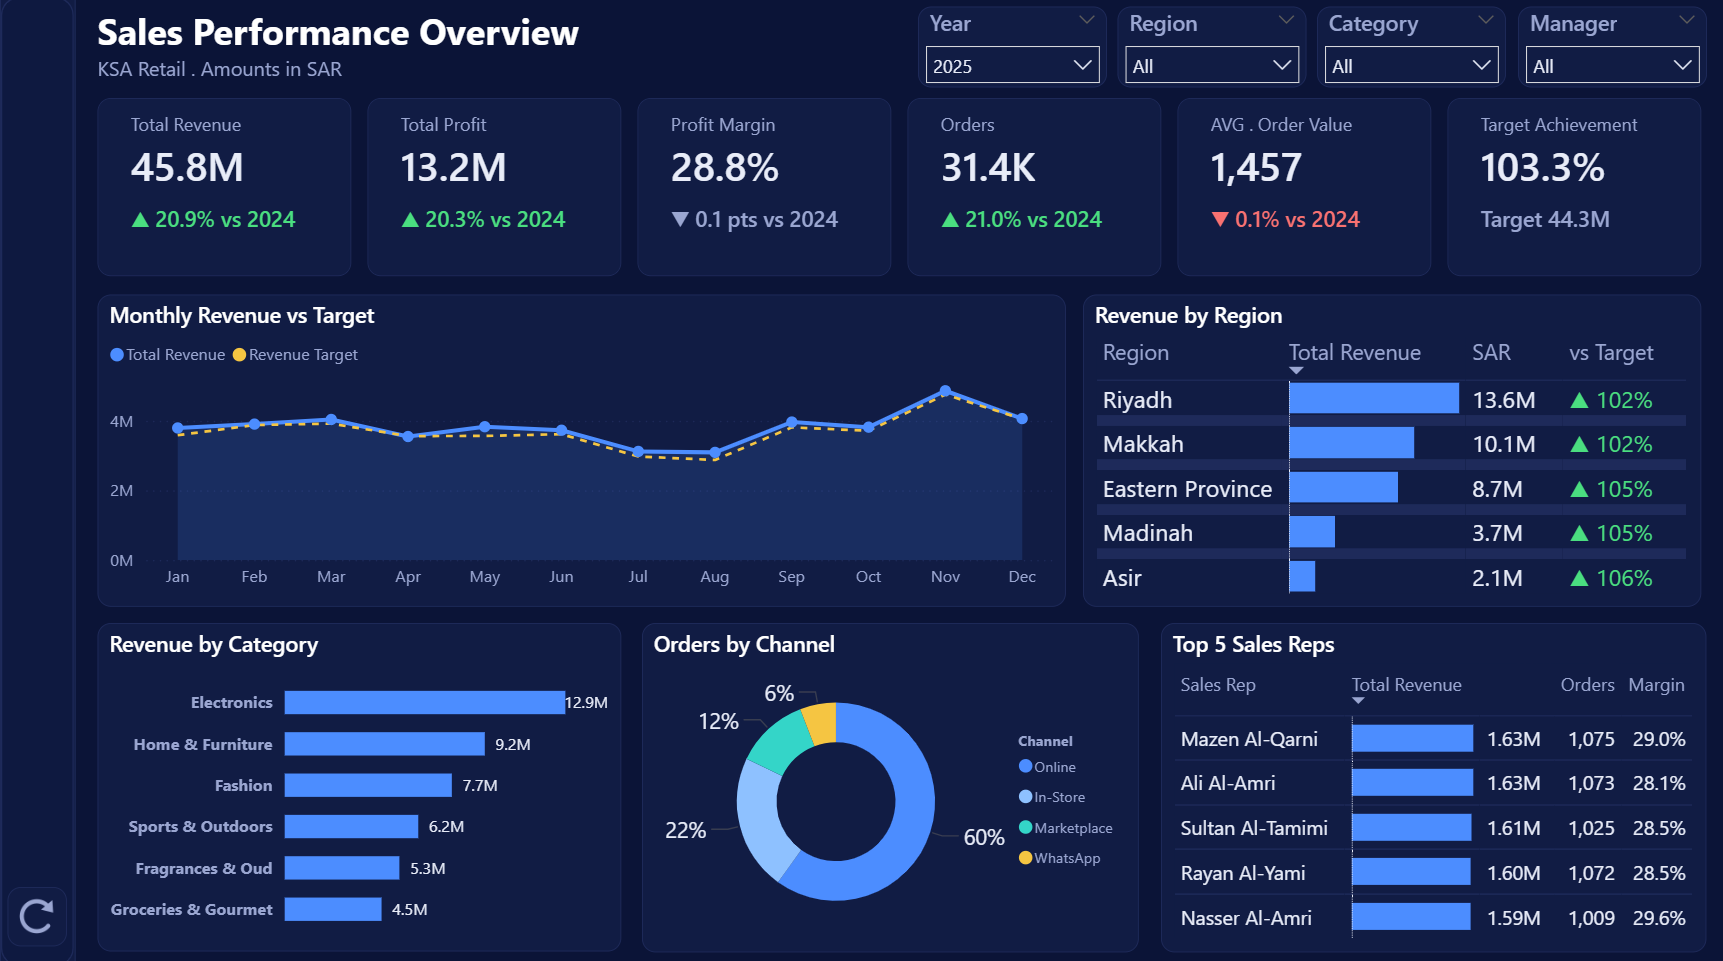

The dashboard page shown, as its layout file describes it:
{"tool":"powerbi","page":{"name":"Page 1","canvas":[1280,720],"ordinal":0},"visuals":[{"type":"cardVisual","fields":{"Data":["Fact_Sales.Profit Label"]},"box":[272,76,188,132],"z":0},{"type":"cardVisual","fields":{"Data":["Fact_Sales.Profit Margin %"]},"box":[472,76,188,132],"z":1000},{"type":"cardVisual","fields":{"Data":["Fact_Sales.Orders Label"]},"box":[672,76,188,132],"z":2000},{"type":"cardVisual","fields":{"Data":["Fact_Sales.AOV Label"]},"box":[872,76,188,132],"z":3000},{"type":"cardVisual","fields":{"Data":["Fact_Sales.Achievement %"]},"box":[1072,76,188,132],"z":4000},{"type":"cardVisual","fields":{"Data":["Fact_Sales.Revenue Label"]},"box":[72,76,188,132],"z":5000},{"type":"slicer","fields":{"Values":["Dim_Date.Year"]},"box":[680,8,140,60],"z":6000},{"type":"slicer","fields":{"Values":["Dim_Geography.Region"]},"box":[828,8,140,60],"z":7000},{"type":"slicer","fields":{"Values":["Dim_Product.Category"]},"box":[976,8,140,60],"z":8000},{"type":"slicer","fields":{"Values":["Dim_SalesRep.ManagerName"]},"box":[1124,8,140,60],"z":9000},{"type":"textbox","box":[72,8,520,68],"z":10000},{"type":"lineChart","title":"Monthly Revenue vs Target","fields":{"Category":["Dim_Date.MonthName"],"Y":["Fact_Sales.Total Revenue","Fact_Sales.Revenue Target"]},"box":[72,221,717,231],"z":11000},{"type":"tableEx","title":"Revenue by Region","fields":{"Values":["Dim_Geography.Province","Fact_Sales.Total Revenue","Fact_Sales.Revenue Label","Fact_Sales.Achievement Label"]},"box":[802.2,221.1,457.8,231.1],"z":12000},{"type":"tableEx","title":"Top 5 Sales Reps","fields":{"Values":["Dim_SalesRep.SalesRepName","Fact_Sales.Total Revenue","Fact_Sales.Rep Revenue Label","Fact_Sales.Orders","Fact_Sales.Profit Margin %"]},"box":[860,464,404,244],"z":13000},{"type":"clusteredBarChart","title":"Revenue by Category","fields":{"Category":["Dim_Product.Category"],"Y":["Fact_Sales.Total Revenue"]},"box":[72.2,464.4,387.8,243.3],"z":14000},{"type":"donutChart","fields":{"Category":["Fact_Sales.Channel"],"Y":["Fact_Sales.Orders"]},"box":[476,464,368,244],"z":15000},{"type":"shape","box":[0,0,56,720],"z":16000},{"type":"image","box":[6,660,44,44],"z":17000}]}

Visuals, with their boxes in screenshot pixels (x1, y1, x2, y2), scaled from the page's 1280x720 canvas onto the 1723x961 screenshot:
cardVisual - Fact_Sales.Profit Label: [left=366, top=101, right=619, bottom=278]
cardVisual - Fact_Sales.Profit Margin %: [left=635, top=101, right=888, bottom=278]
cardVisual - Fact_Sales.Orders Label: [left=905, top=101, right=1158, bottom=278]
cardVisual - Fact_Sales.AOV Label: [left=1174, top=101, right=1427, bottom=278]
cardVisual - Fact_Sales.Achievement %: [left=1443, top=101, right=1696, bottom=278]
cardVisual - Fact_Sales.Revenue Label: [left=97, top=101, right=350, bottom=278]
slicer - Dim_Date.Year: [left=915, top=11, right=1104, bottom=91]
slicer - Dim_Geography.Region: [left=1115, top=11, right=1303, bottom=91]
slicer - Dim_Product.Category: [left=1314, top=11, right=1502, bottom=91]
slicer - Dim_SalesRep.ManagerName: [left=1513, top=11, right=1701, bottom=91]
textbox: [left=97, top=11, right=797, bottom=101]
"Monthly Revenue vs Target" lineChart: [left=97, top=295, right=1062, bottom=603]
"Revenue by Region" tableEx: [left=1080, top=295, right=1696, bottom=604]
"Top 5 Sales Reps" tableEx: [left=1158, top=619, right=1701, bottom=945]
"Revenue by Category" clusteredBarChart: [left=97, top=620, right=619, bottom=945]
donutChart - Fact_Sales.Channel x Fact_Sales.Orders: [left=641, top=619, right=1136, bottom=945]
shape: [left=0, top=0, right=75, bottom=960]
image: [left=8, top=881, right=67, bottom=940]
